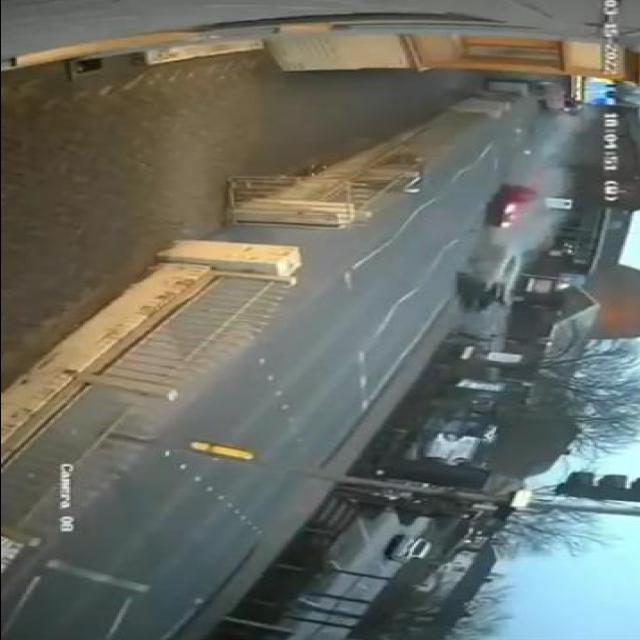accident: (438, 181, 547, 315)
